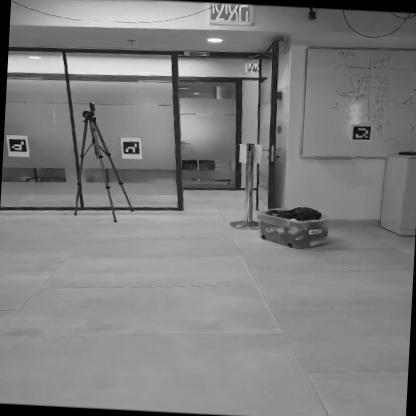open: (167, 72, 258, 220)
